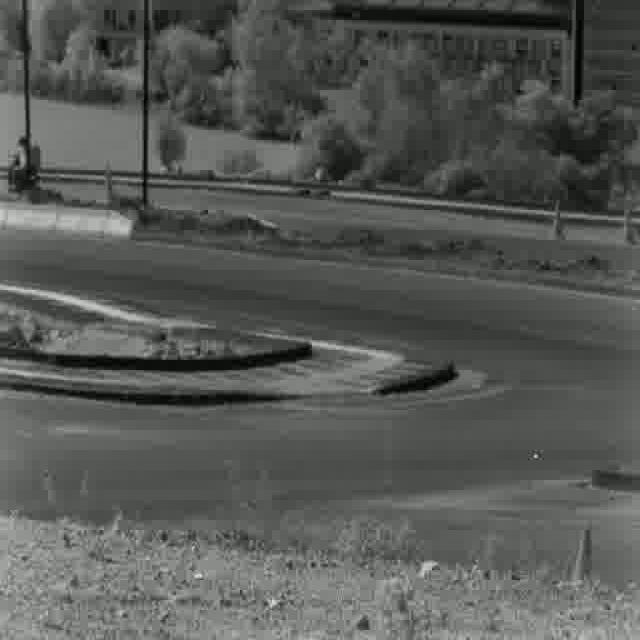Motorcycle: (8, 133, 42, 197)
